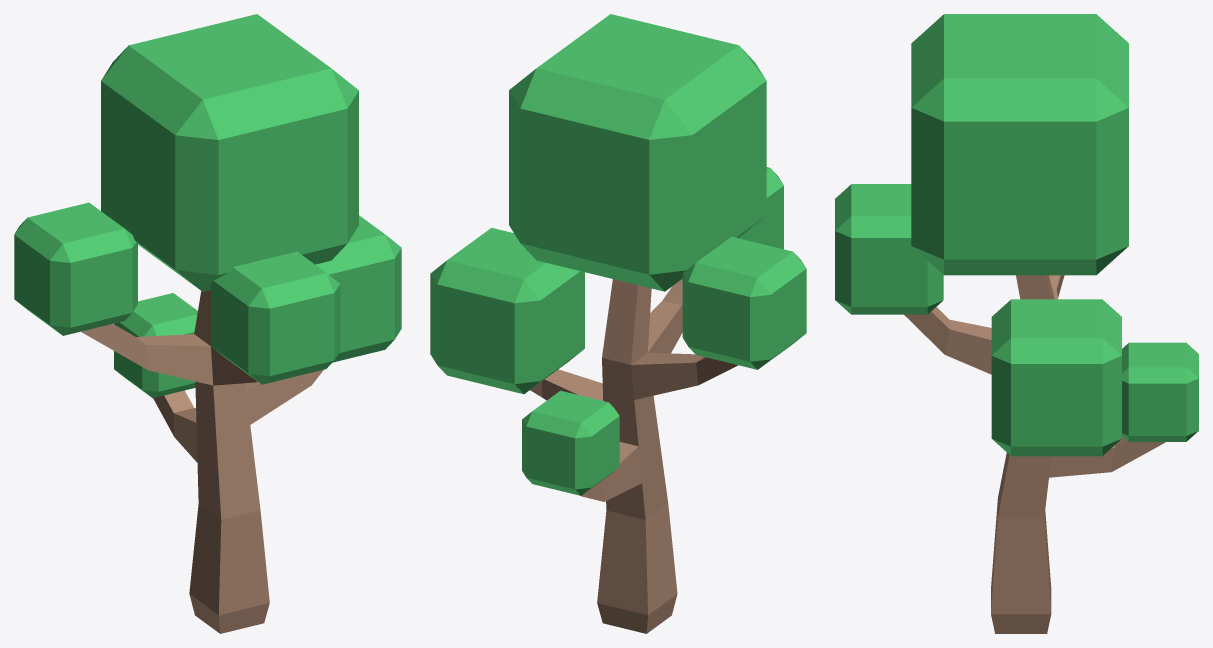
Rendered from treeDetailed.glb.
3 renders of one model, left to right at view 1: azimuth 30°, elevation 25°; view 2: azimuth 150°, elevation 25°; view 3: azimuth 270°, elevation 25°, orthographic. The views are drawn at different scales.
Visible parts, largest first — view 1: treeDetailed; view 2: treeDetailed; view 3: treeDetailed.
Part boxes in pixels (bbox=[...]): treeDetailed: bbox=[14, 14, 401, 633]; treeDetailed: bbox=[430, 14, 806, 633]; treeDetailed: bbox=[835, 14, 1198, 633].
Bounding box in the file's own units: 0.8471 × 1.33 × 0.7616.
